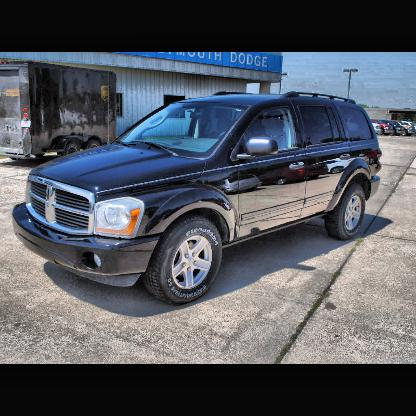Dodge Durango SUV 2007: (5, 84, 393, 326)
